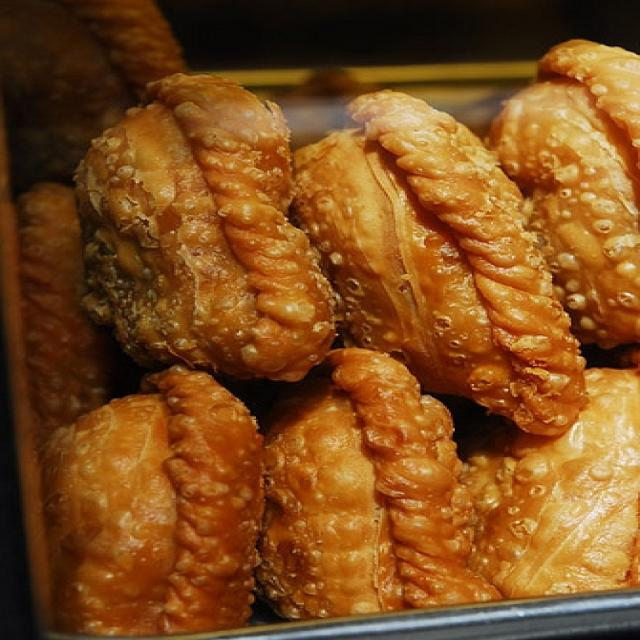炸货点心: (25, 37, 628, 591)
